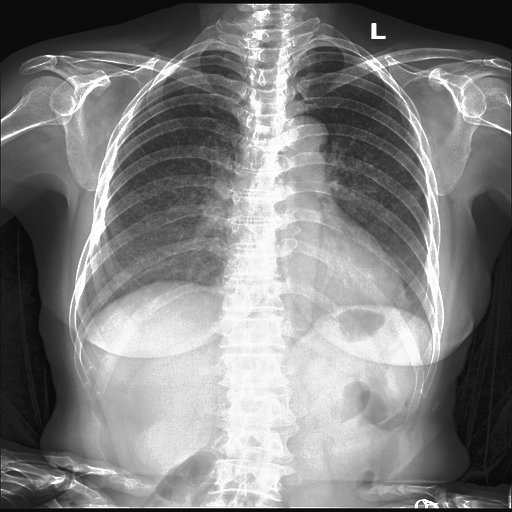Cardiomegaly: (86, 75, 247, 300), (315, 89, 429, 290)
Consolidation: (271, 113, 331, 157)
ILD: (83, 45, 252, 294), (293, 45, 437, 291)
Nodule/Mass: (218, 244, 409, 316)
